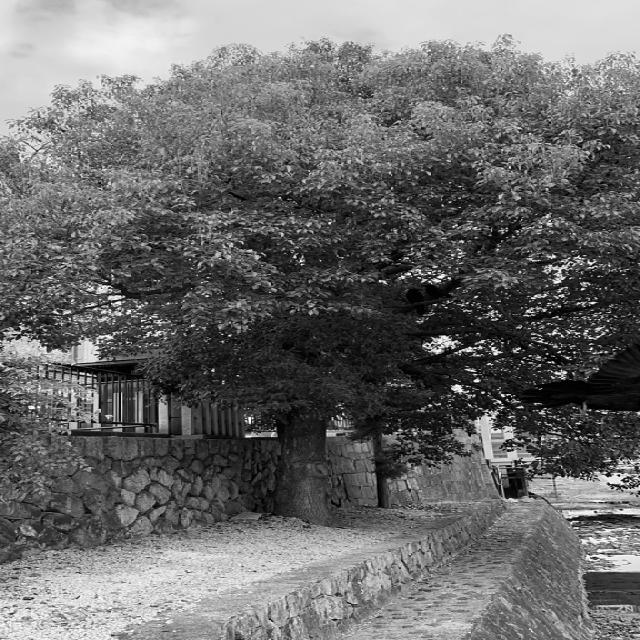camphor: (5, 38, 640, 519)
